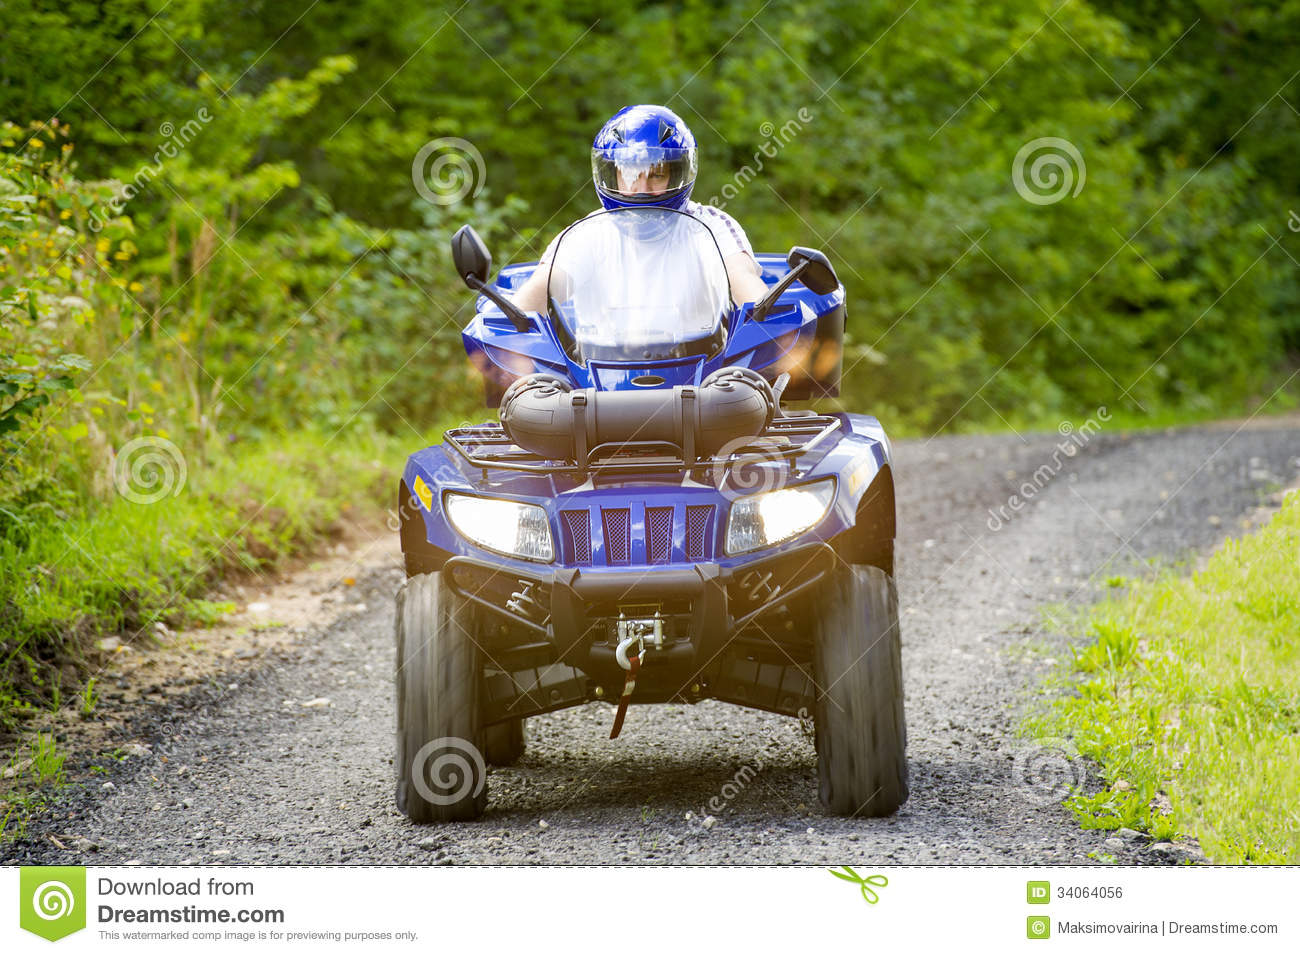helmet: (587, 103, 707, 229)
